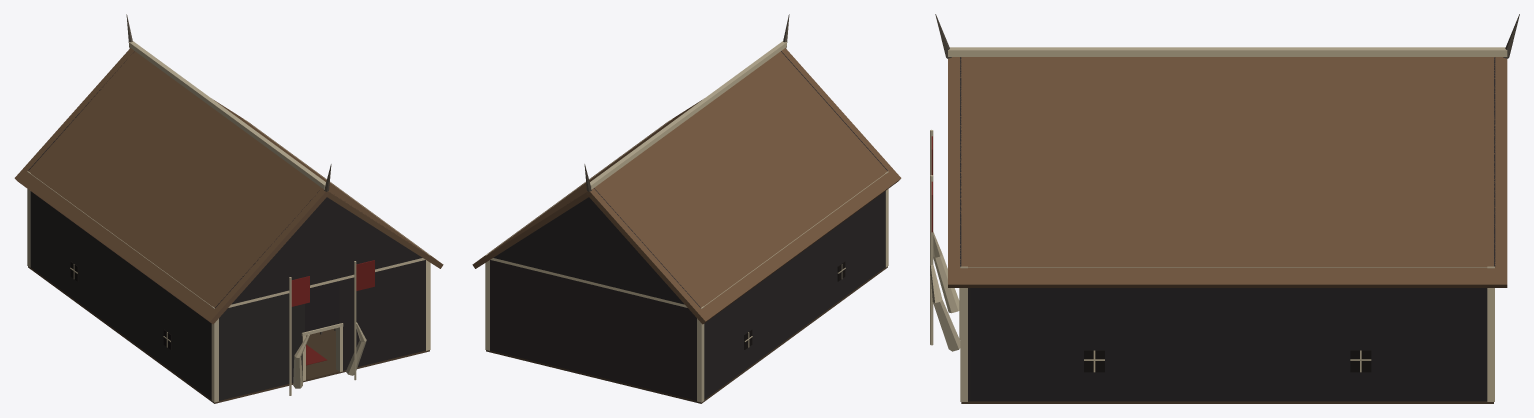
File: walk_ashen_hall.glb
The picture shows the model from 3 angles, left to right: view 1: azimuth 30°, elevation 25°; view 2: azimuth 150°, elevation 25°; view 3: azimuth 270°, elevation 25°; orthographic projection. The views are drawn at different scales.
Parts seen in each view (by area): view 1: walk_ashen_hall_roof, walk_ashen_hall; view 2: walk_ashen_hall_roof, walk_ashen_hall; view 3: walk_ashen_hall_roof, walk_ashen_hall.
Part boxes in pixels (bbox=[...]): walk_ashen_hall_roof: bbox=[14, 14, 443, 324]; walk_ashen_hall: bbox=[27, 118, 430, 403]; walk_ashen_hall_roof: bbox=[472, 14, 901, 324]; walk_ashen_hall: bbox=[485, 118, 888, 403]; walk_ashen_hall_roof: bbox=[935, 14, 1519, 287]; walk_ashen_hall: bbox=[930, 129, 1494, 403].
Size of what is drawn, in the model's own units: 13 by 11.81 by 19.94.
2 materials, 2 textured.
